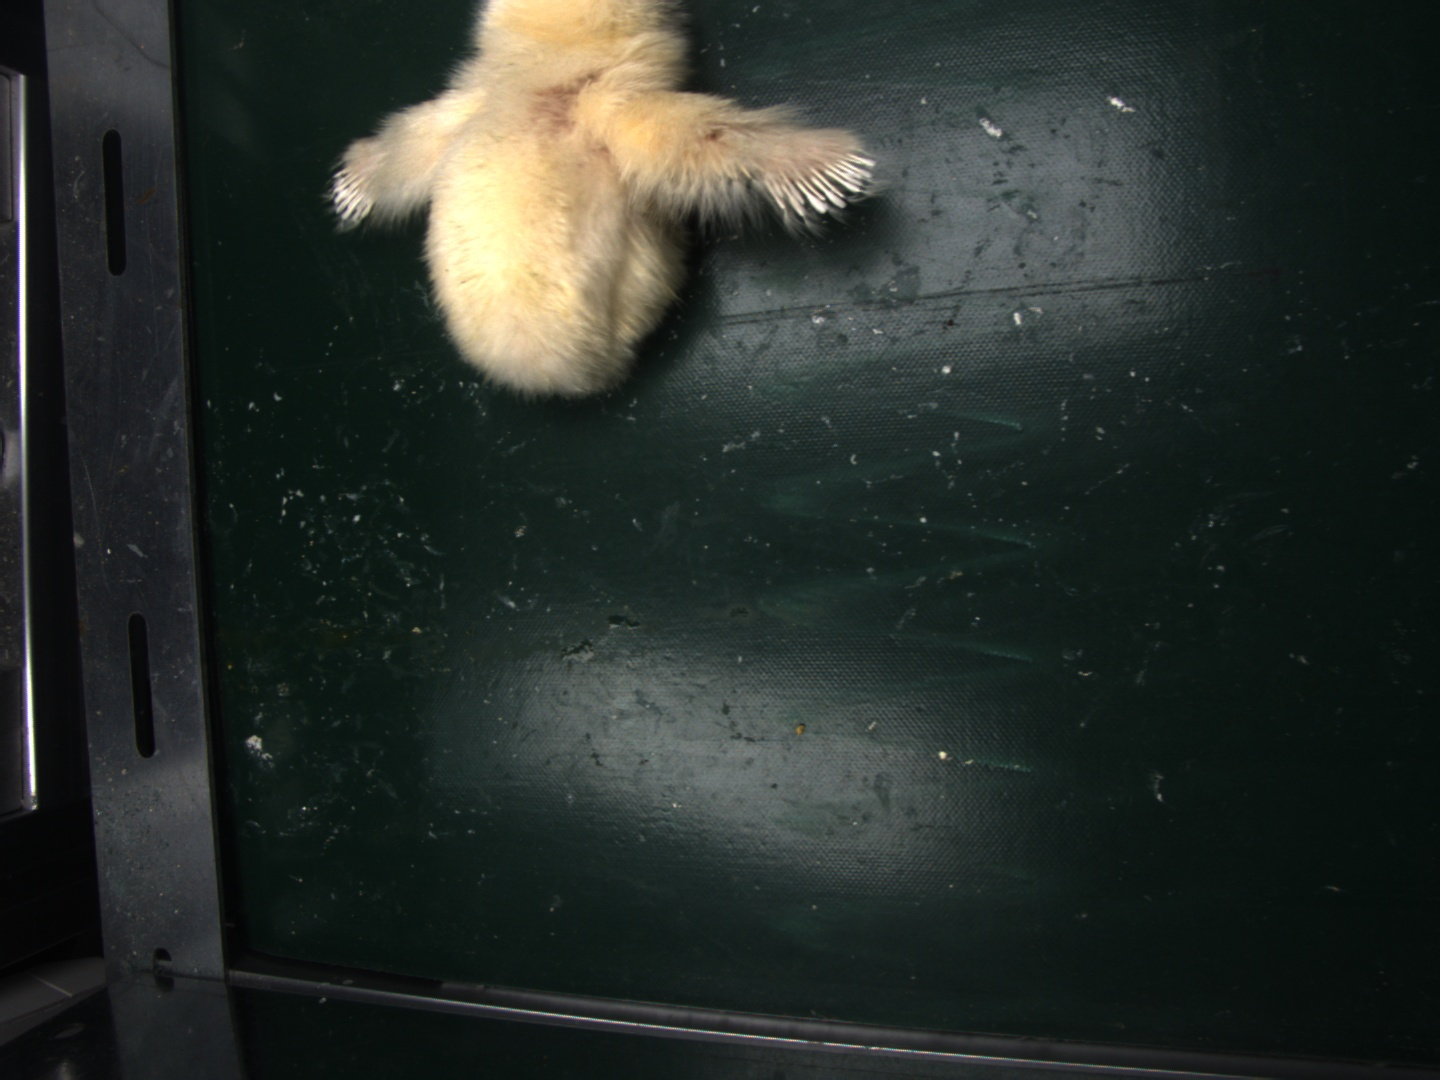male: (766, 151, 878, 218)
